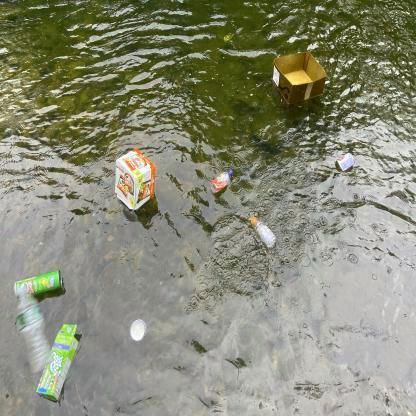Metal: (13, 268, 65, 302), (334, 152, 357, 176)
Plastic: (12, 284, 55, 376), (247, 214, 280, 252), (208, 166, 236, 197)
Trash: (128, 317, 148, 343)
